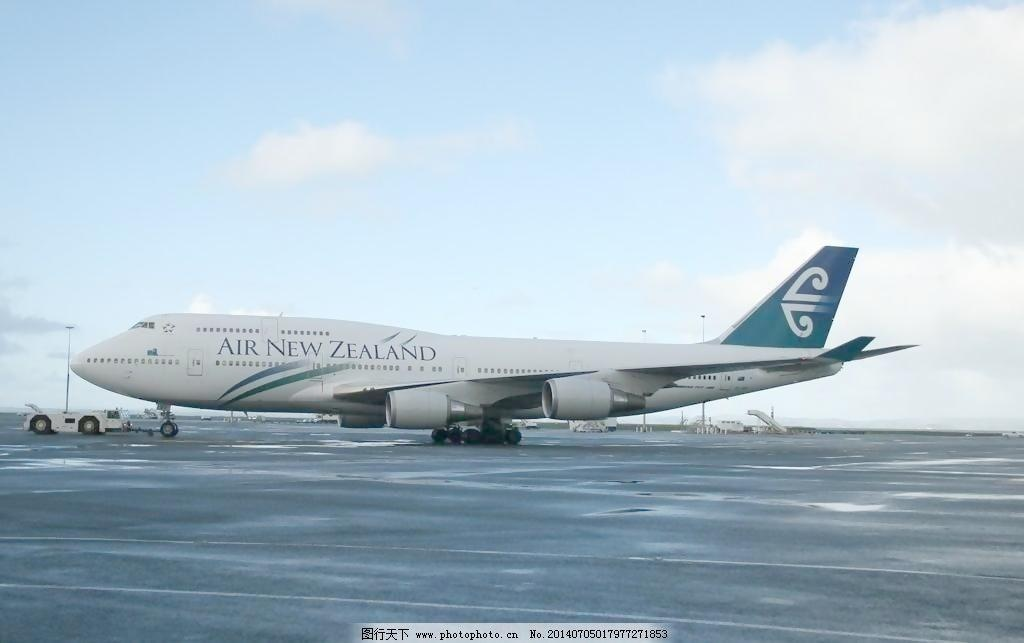airplane: (48, 239, 925, 424)
